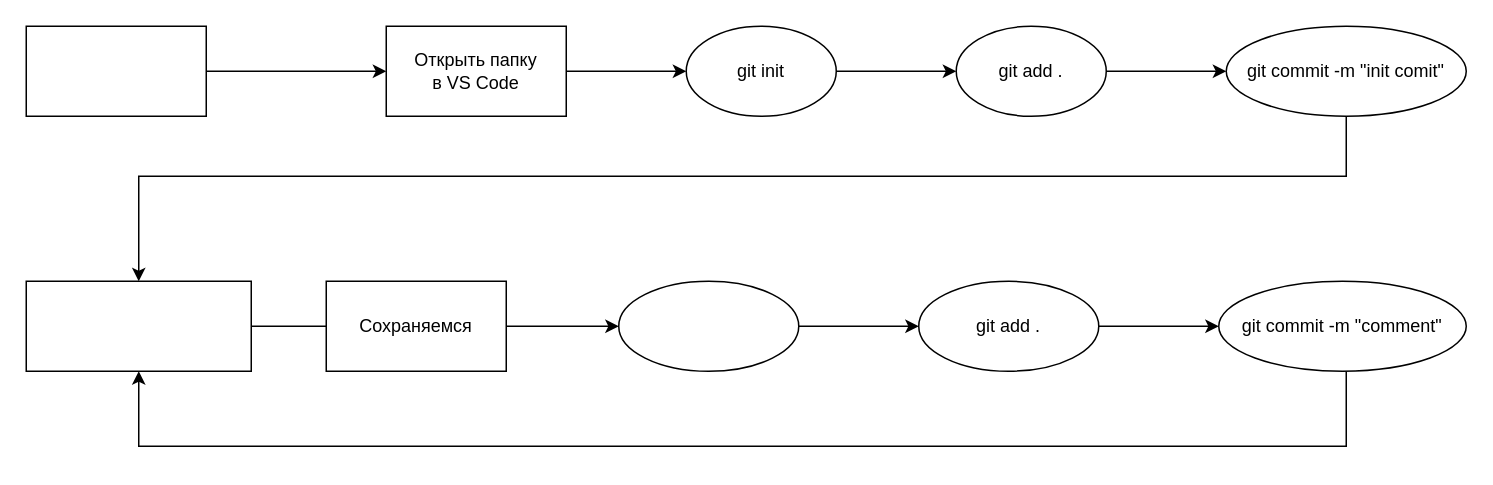
This 1493x485 diagram has some shape labels left out. The shapes that lost their labels are listed below. From the top down, each one's centre as x and y in pixels, then its label:
pixel 115 70: Создать папку
pixel 138 325: Работаем в папке, изменяем/добавляем новые файлы
pixel 708 325: git status
